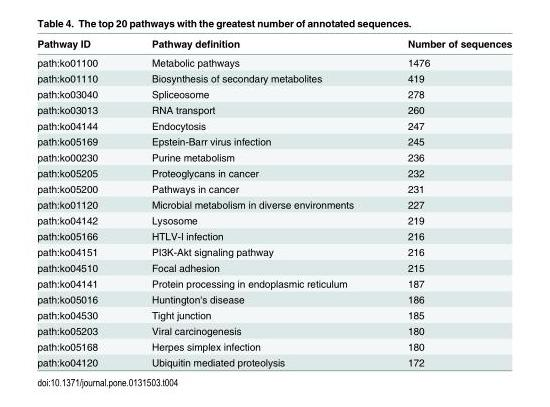table: (36, 37, 511, 367)
table column: (124, 37, 379, 367), (379, 37, 511, 367), (36, 37, 124, 367)
table column header: (36, 37, 511, 52)
table row: (36, 52, 511, 70), (36, 85, 511, 101), (36, 101, 511, 117), (36, 117, 511, 133), (36, 148, 511, 164), (36, 164, 511, 180), (36, 180, 511, 196), (36, 196, 511, 212), (36, 227, 511, 243), (36, 243, 511, 259), (36, 259, 511, 275), (36, 290, 511, 306), (36, 306, 511, 322), (36, 322, 511, 338), (36, 338, 511, 354), (36, 37, 511, 52), (36, 70, 511, 85), (36, 133, 511, 148), (36, 212, 511, 227), (36, 275, 511, 290), (36, 354, 511, 367)
